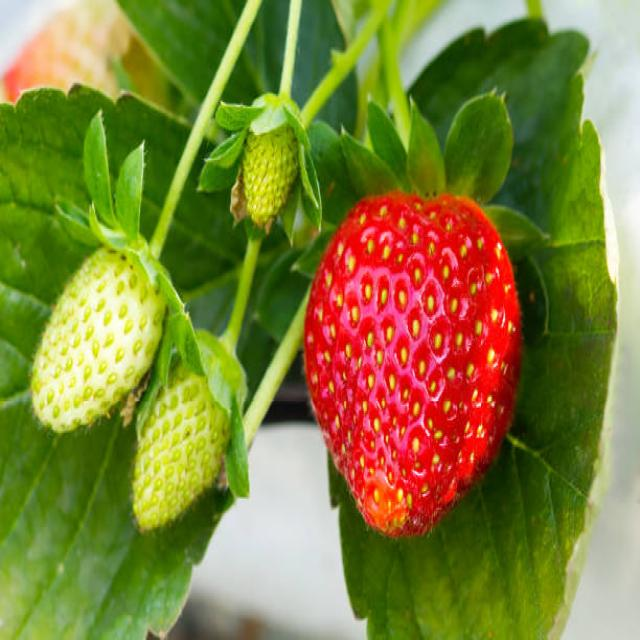Healthy Fruit: (303, 189, 522, 535), (29, 245, 163, 436), (131, 362, 232, 530)
